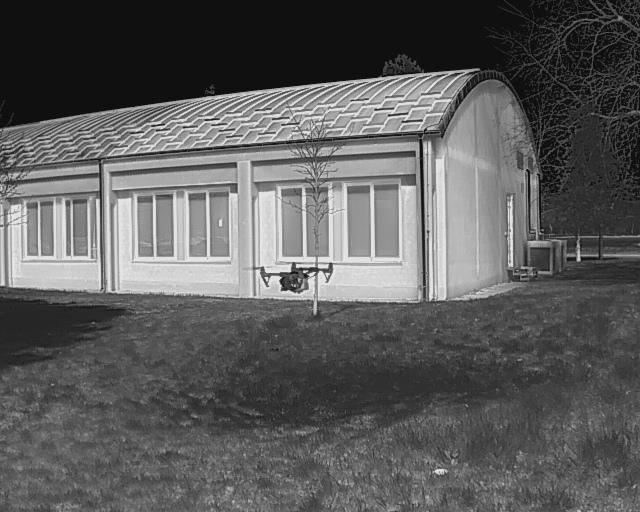drone: (248, 249, 339, 306)
